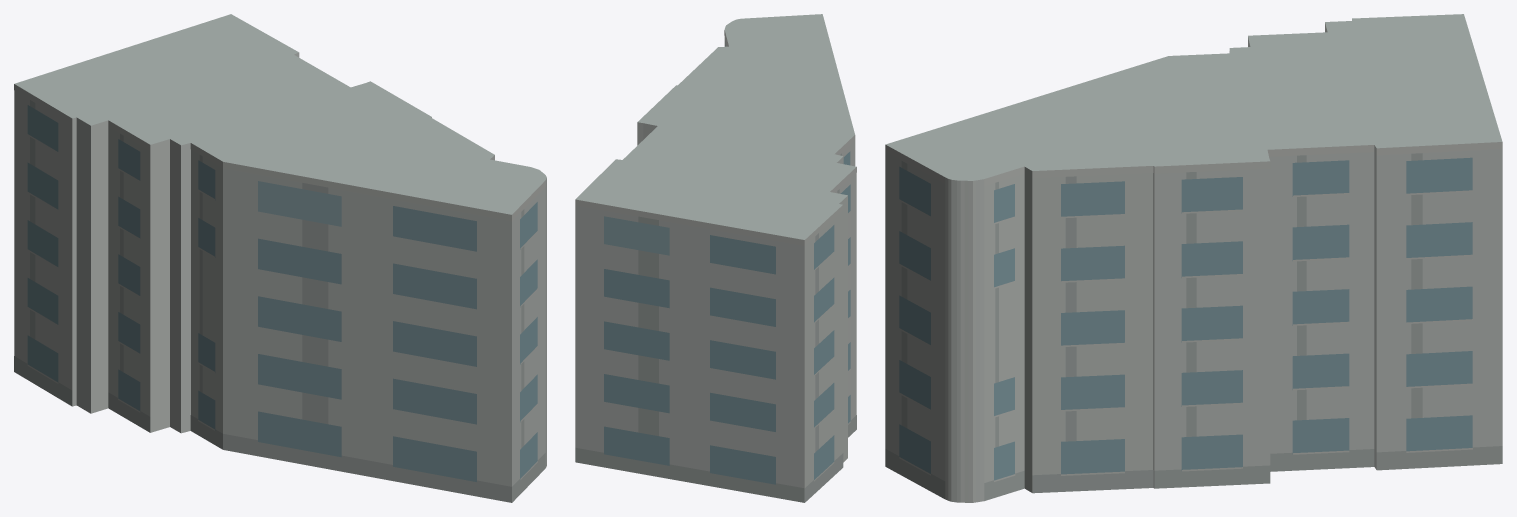
Rendered from survey-upis-32782036.glb.
3 views of the same model, side by side, from view 1: azimuth 30°, elevation 25°; view 2: azimuth 150°, elevation 25°; view 3: azimuth 270°, elevation 25° (orthographic). The views are drawn at different scales.
Visible parts, largest first — view 1: survey-upis-32782036.tmp; view 2: survey-upis-32782036.tmp; view 3: survey-upis-32782036.tmp.
Boxes of the visible parts, x1=… form: survey-upis-32782036.tmp: x1=14, y1=14, x2=546, y2=502; survey-upis-32782036.tmp: x1=575, y1=14, x2=856, y2=502; survey-upis-32782036.tmp: x1=885, y1=14, x2=1502, y2=502.
Bounding box in the file's own units: 12.12 × 10.9 × 18.94.
